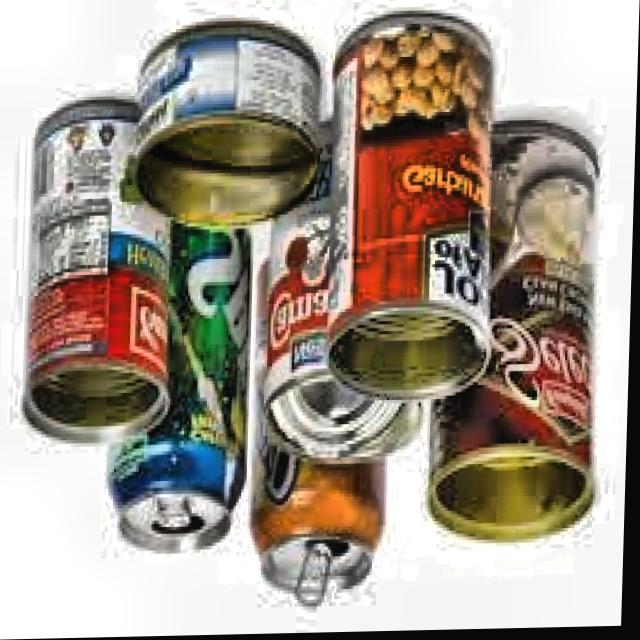can: (426, 117, 607, 556), (324, 11, 501, 408), (265, 122, 436, 468), (18, 97, 179, 451), (107, 205, 257, 561), (252, 252, 397, 611), (130, 18, 325, 240)
